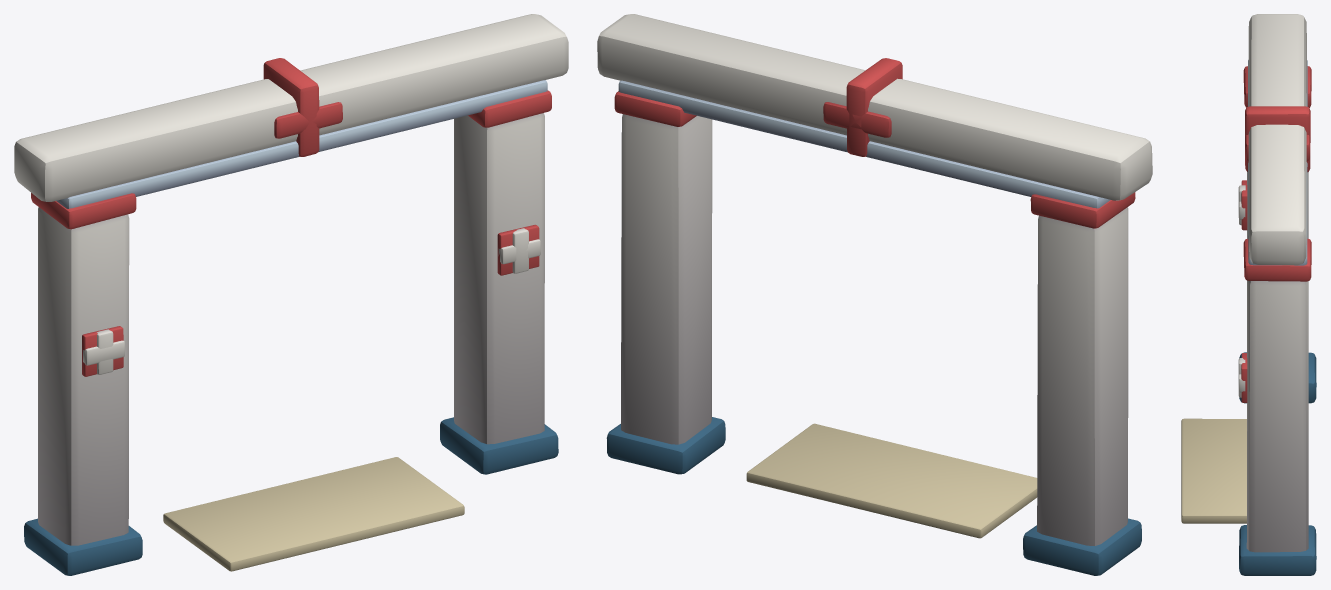
3 views of the same model, side by side, from view 1: azimuth 30°, elevation 25°; view 2: azimuth 150°, elevation 25°; view 3: azimuth 270°, elevation 25° (orthographic). The views are drawn at different scales.
Parts seen in each view (by area): view 1: gate_f4796b8e; view 2: gate_f4796b8e; view 3: gate_f4796b8e.
Part boxes in pixels (x1,y1,x2,y2): gate_f4796b8e: [14, 14, 568, 575]; gate_f4796b8e: [597, 14, 1152, 575]; gate_f4796b8e: [1181, 14, 1316, 575].
Size of the model in its own units: 5.4 by 4.2 by 1.4.
